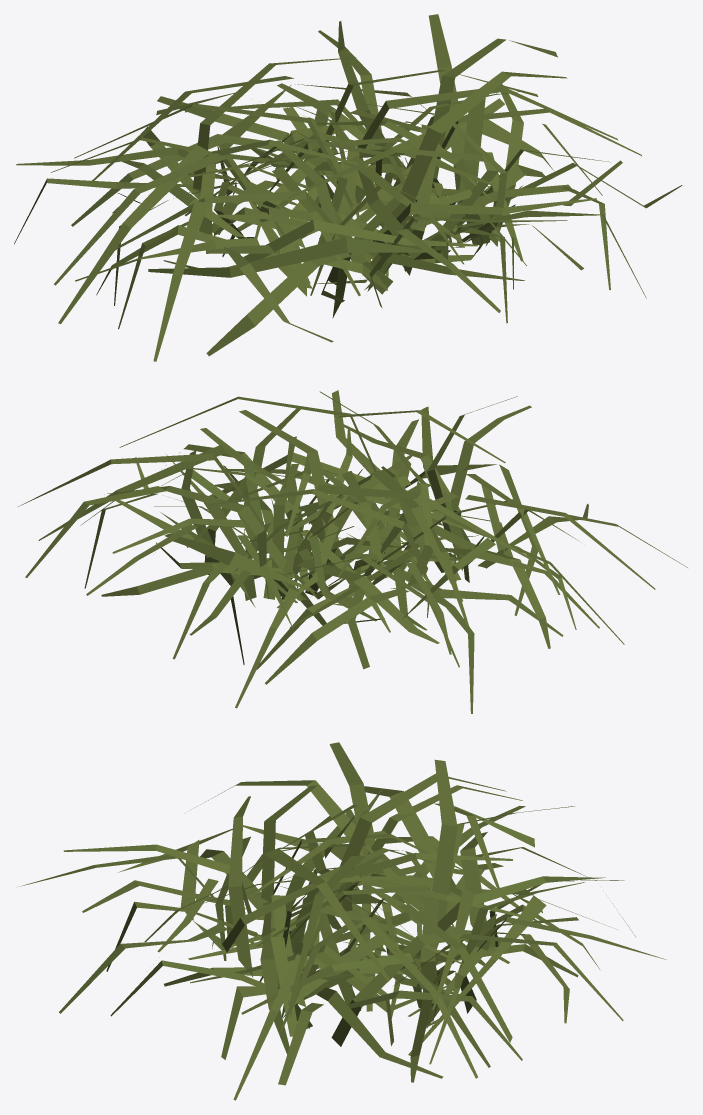
File: Japanese Sedge.glb
3 views of the same model, one above another, from view 1: azimuth 30°, elevation 25°; view 2: azimuth 150°, elevation 25°; view 3: azimuth 270°, elevation 25° (orthographic). The views are drawn at different scales.
Parts seen in each view (by area): view 1: JapaneseSedge1; view 2: JapaneseSedge1; view 3: JapaneseSedge1.
Part boxes in pixels (x1,y1,x2,y2): JapaneseSedge1: [14, 14, 682, 361]; JapaneseSedge1: [18, 390, 687, 713]; JapaneseSedge1: [18, 742, 666, 1100].
Bounding box in the file's own units: 2.63 × 0.7277 × 2.61.
